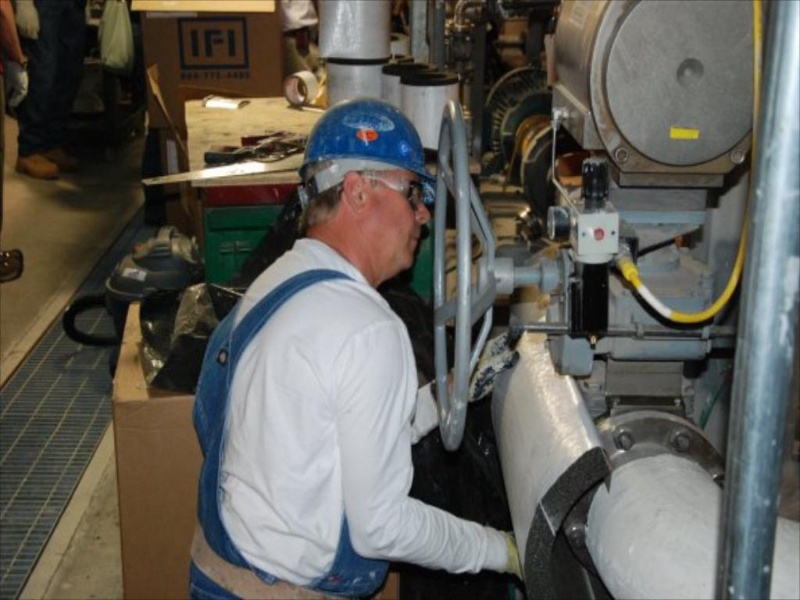Baret: (305, 95, 434, 189)
